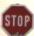Stop sign: (0, 0, 33, 35)
